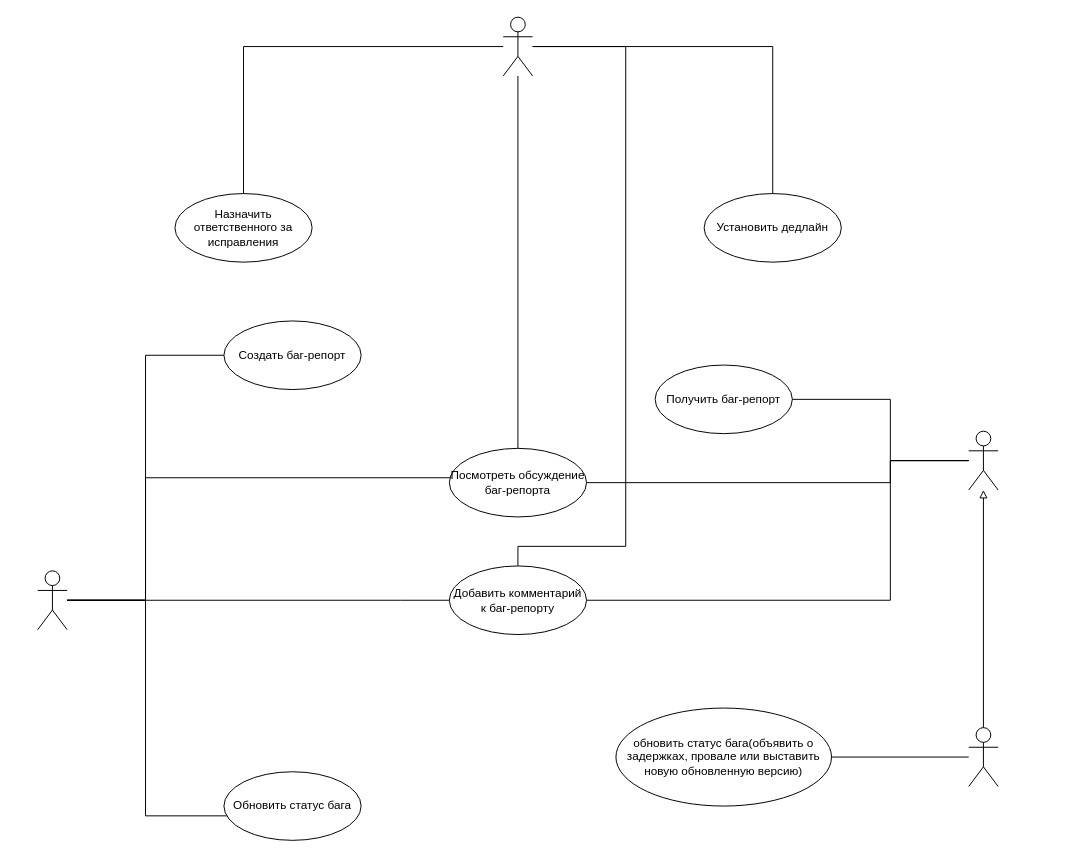
Some shapes in this 1091 by 858 pixel diagram are drawn without their labels. Here are the shapes that lost their labels. From the top down, the box of each, then its label:
(502, 16, 533, 76): Руководитель проекта
(968, 430, 998, 490): Член команды разработки
(37, 570, 67, 630): Тестировщик
(968, 727, 998, 786): Тим-лид команды разработчиков
